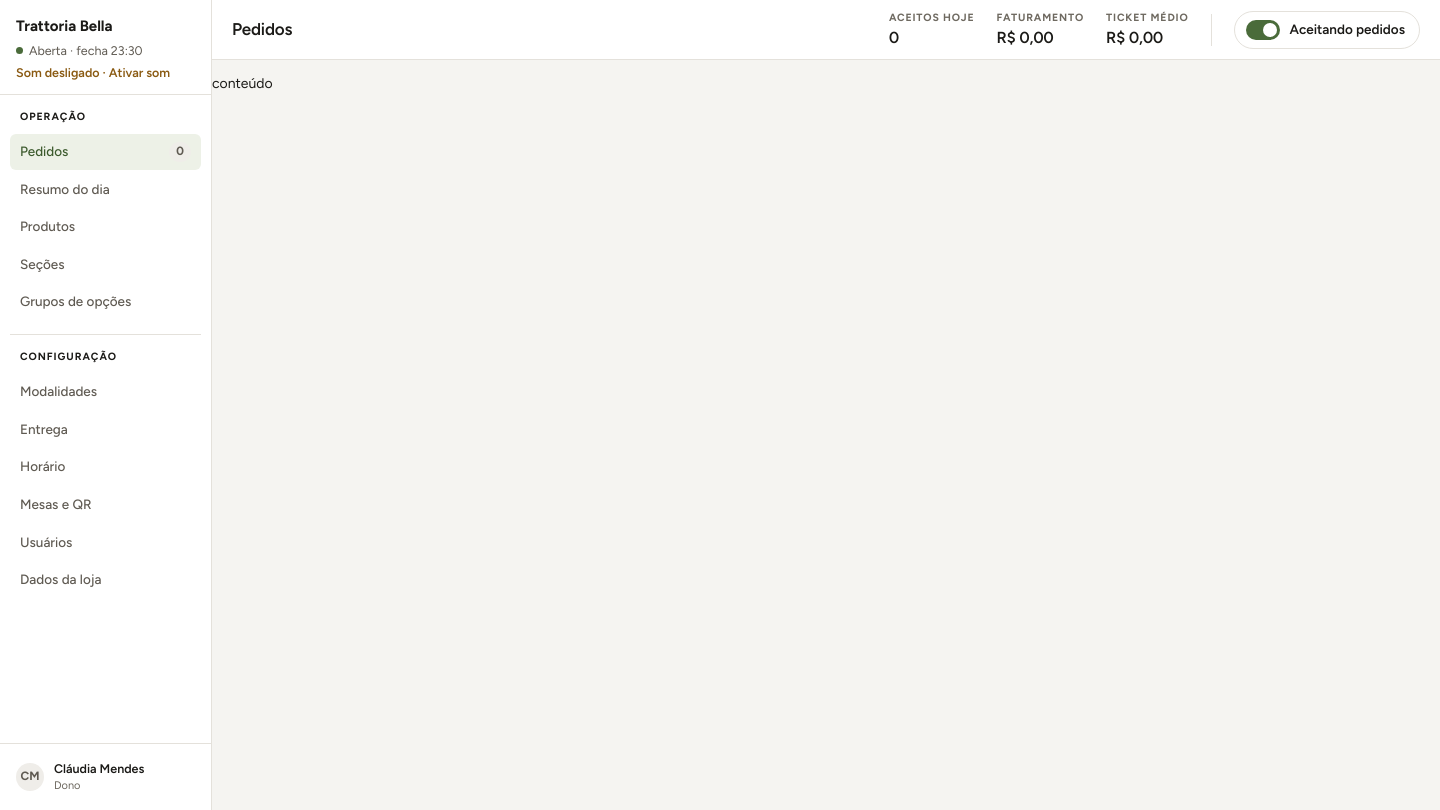
Test case: PanelLayout › o interruptor pausa a loja e a faixa aparece
The width and height of the screenshot is (1440, 810).
Click the switch labelled "Aceitando pedidos" at (1327, 30), box [1234,10,1420,48]
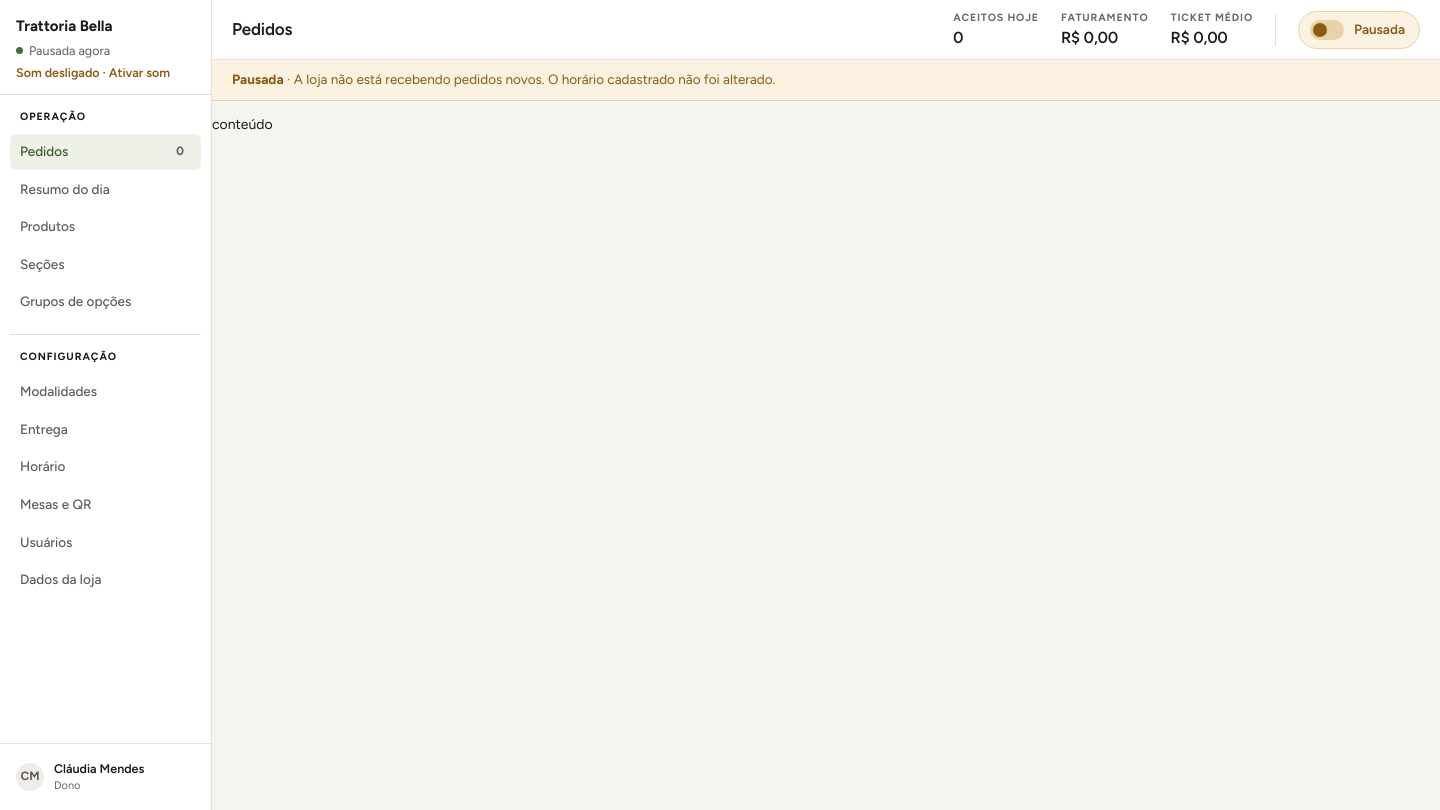
Check: the text "A loja não está recebendo pedidos novos. O horário cadastrado não foi alterado." is shown, box [294,71,775,87]
Check: the text "Pausada agora" is shown, box [16,43,110,58]
Click the switch named "Aceitando pedidos" at (1359, 30), box [1298,10,1420,48]
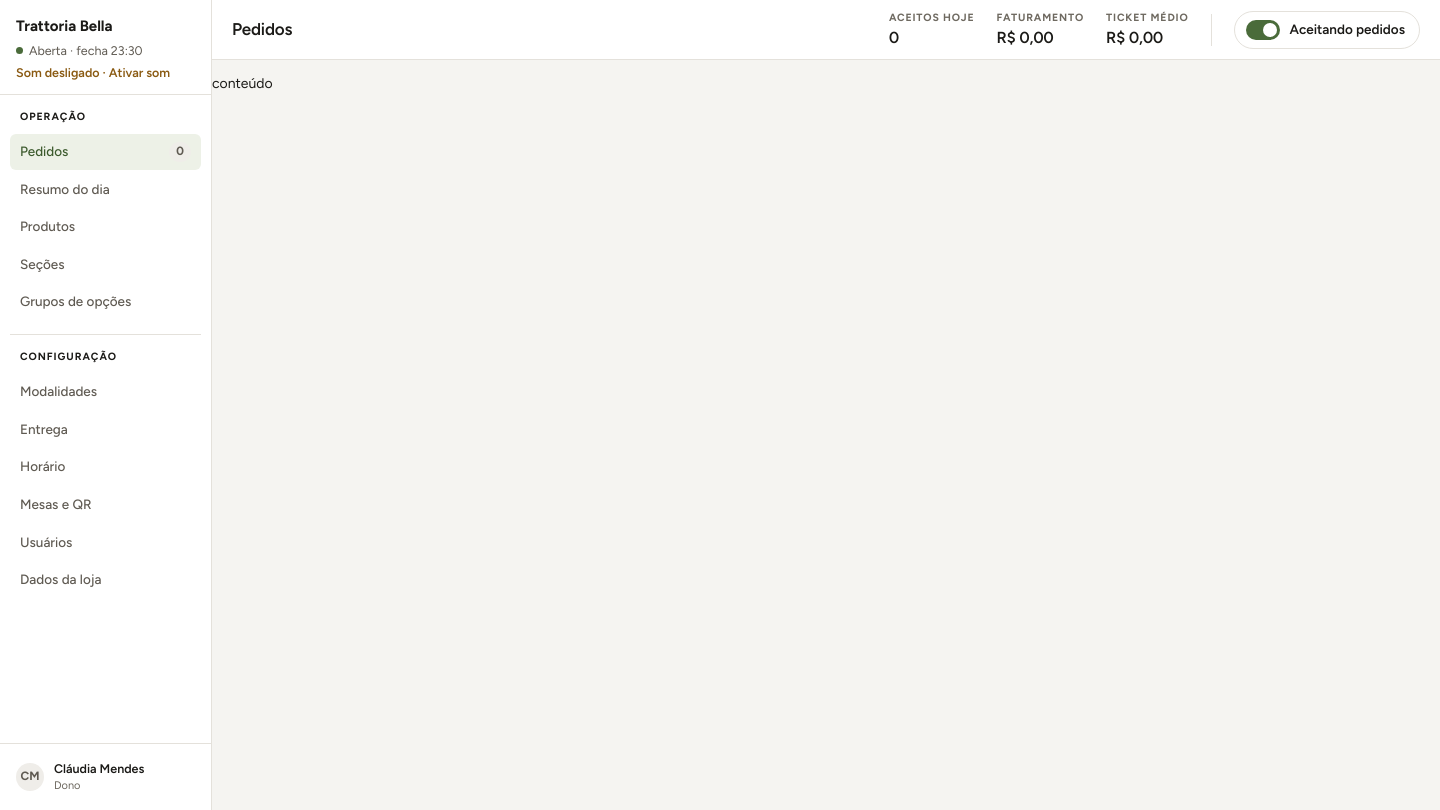
Check: the text "Aberta · fecha 23:30" is shown, box [16,43,143,58]
